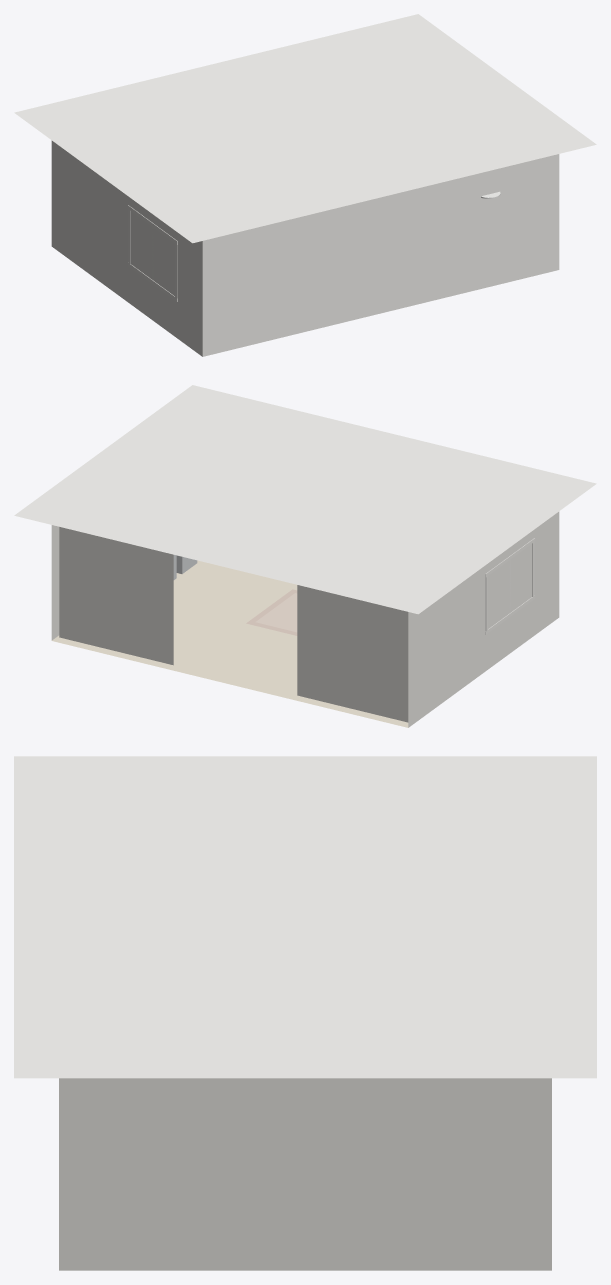
3 renders of one model, top to bottom at view 1: azimuth 30°, elevation 25°; view 2: azimuth 150°, elevation 25°; view 3: azimuth 270°, elevation 25°, orthographic. The views are drawn at different scales.
Parts seen in each view (by area): view 1: object 9, object 4, object 5; view 2: object 9, object 5, object 1, object 8, object 7, object 6, object 3, object 2; view 3: object 9, object 6.
Boxes of the visible parts, x1=… form: object 9: x1=14, y1=14, x2=596, y2=243; object 4: x1=202, y1=154, x2=559, y2=356; object 5: x1=51, y1=140, x2=202, y2=356; object 9: x1=14, y1=385, x2=596, y2=614; object 5: x1=408, y1=511, x2=559, y2=727; object 1: x1=52, y1=560, x2=408, y2=727; object 8: x1=59, y1=527, x2=173, y2=665; object 7: x1=297, y1=585, x2=408, y2=722; object 6: x1=51, y1=525, x2=59, y2=640; object 3: x1=255, y1=593, x2=297, y2=632; object 2: x1=246, y1=589, x2=297, y2=635; object 9: x1=14, y1=756, x2=596, y2=1078; object 6: x1=59, y1=1078, x2=551, y2=1270.
Bounding box in the file's own units: 17 × 5.2 × 13.
